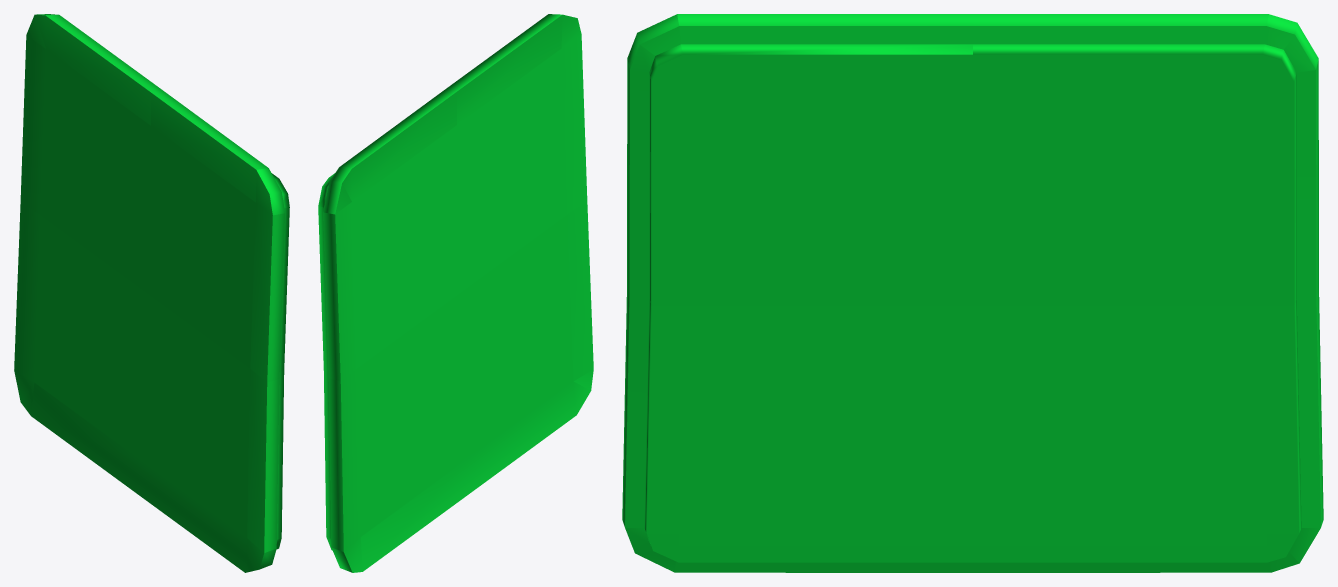
File: Coin_Metal.fbx
3 views of the same model, side by side, from view 1: azimuth 30°, elevation 25°; view 2: azimuth 150°, elevation 25°; view 3: azimuth 270°, elevation 25° (orthographic). The views are drawn at different scales.
Parts seen in each view (by area): view 1: Coin_Metal; view 2: Coin_Metal; view 3: Coin_Metal.
Part boxes in pixels (left/top/right/bottom): Coin_Metal: left=14, top=14, right=289, bottom=572; Coin_Metal: left=318, top=14, right=593, bottom=572; Coin_Metal: left=622, top=14, right=1323, bottom=572.
Bounding box in the file's own units: 2.64 × 26.4 × 29.98.
